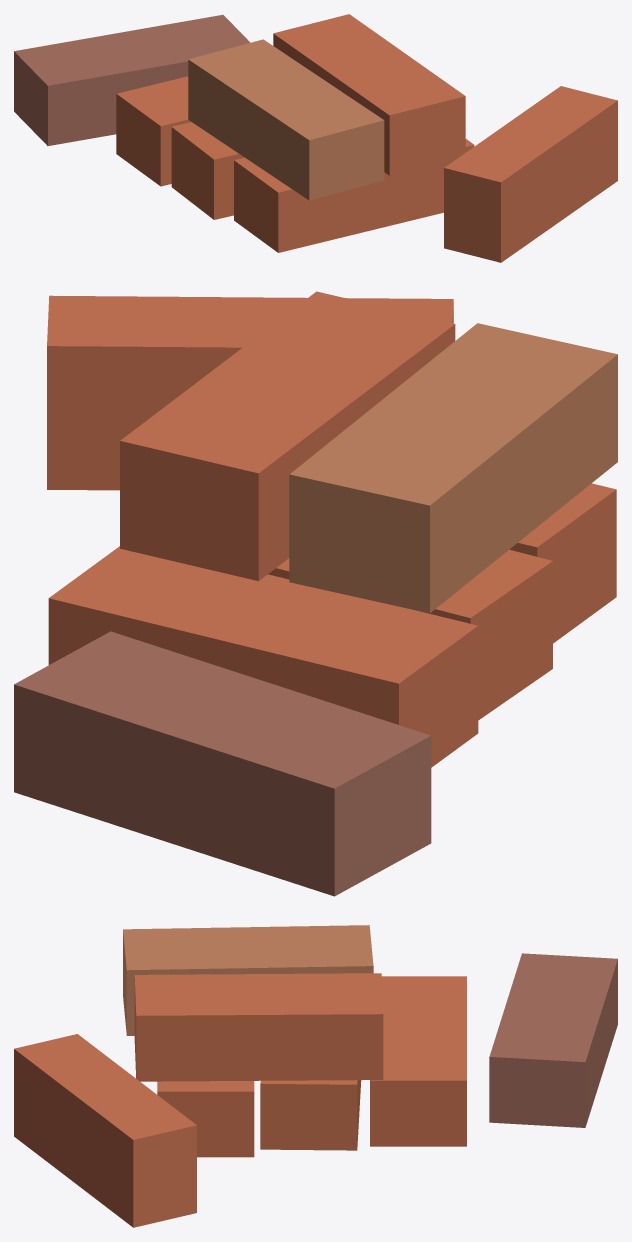
Rendered from Brick_Pile_m_04.fbx.
The picture shows the model from 3 angles, top to bottom: view 1: azimuth 30°, elevation 25°; view 2: azimuth 150°, elevation 25°; view 3: azimuth 270°, elevation 25°; orthographic projection. The views are drawn at different scales.
Visible parts, largest first — view 1: Brick_Pile_m_04; view 2: Brick_Pile_m_04; view 3: Brick_Pile_m_04.
Part boxes in pixels (box(x1,y1,x2,y2)): Brick_Pile_m_04: box(14, 14, 617, 262); Brick_Pile_m_04: box(14, 291, 617, 896); Brick_Pile_m_04: box(14, 925, 617, 1227).
Bounding box in the file's own units: 0.5098 × 0.15 × 0.6237.
